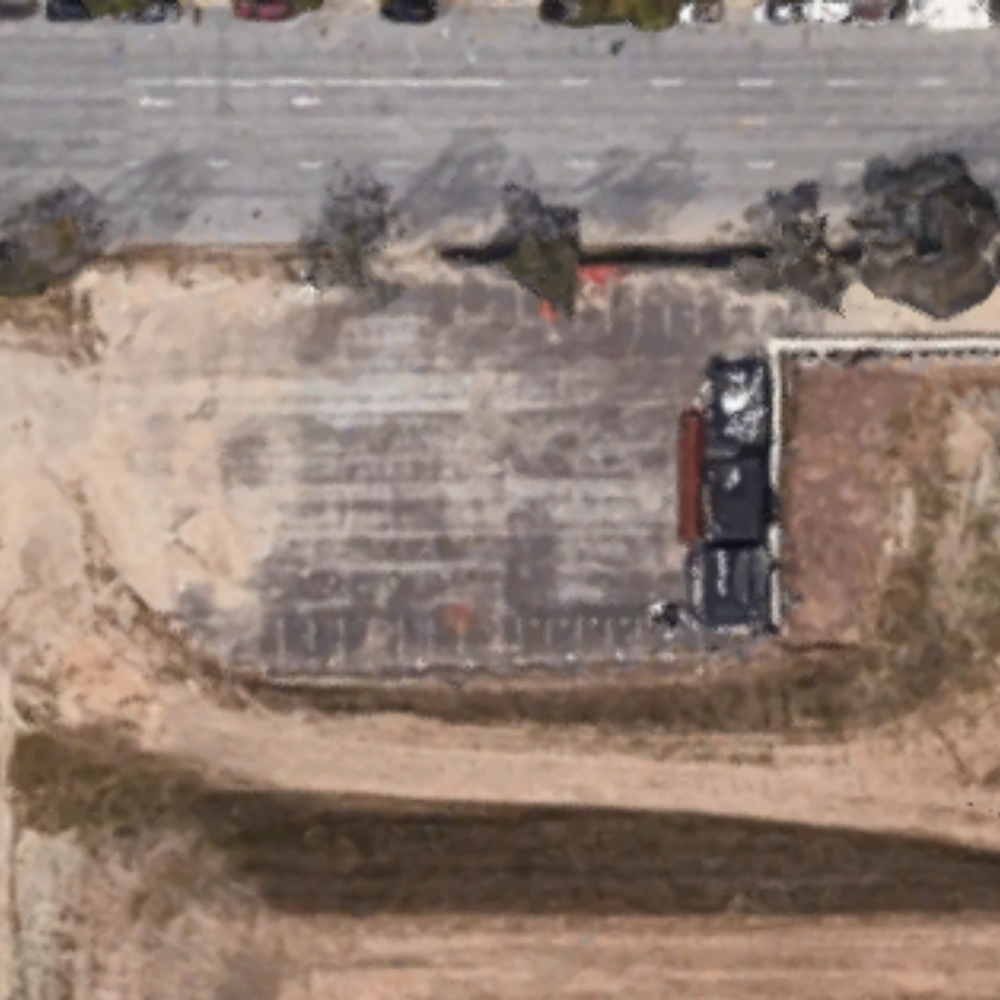parking: (160, 285, 775, 665)
